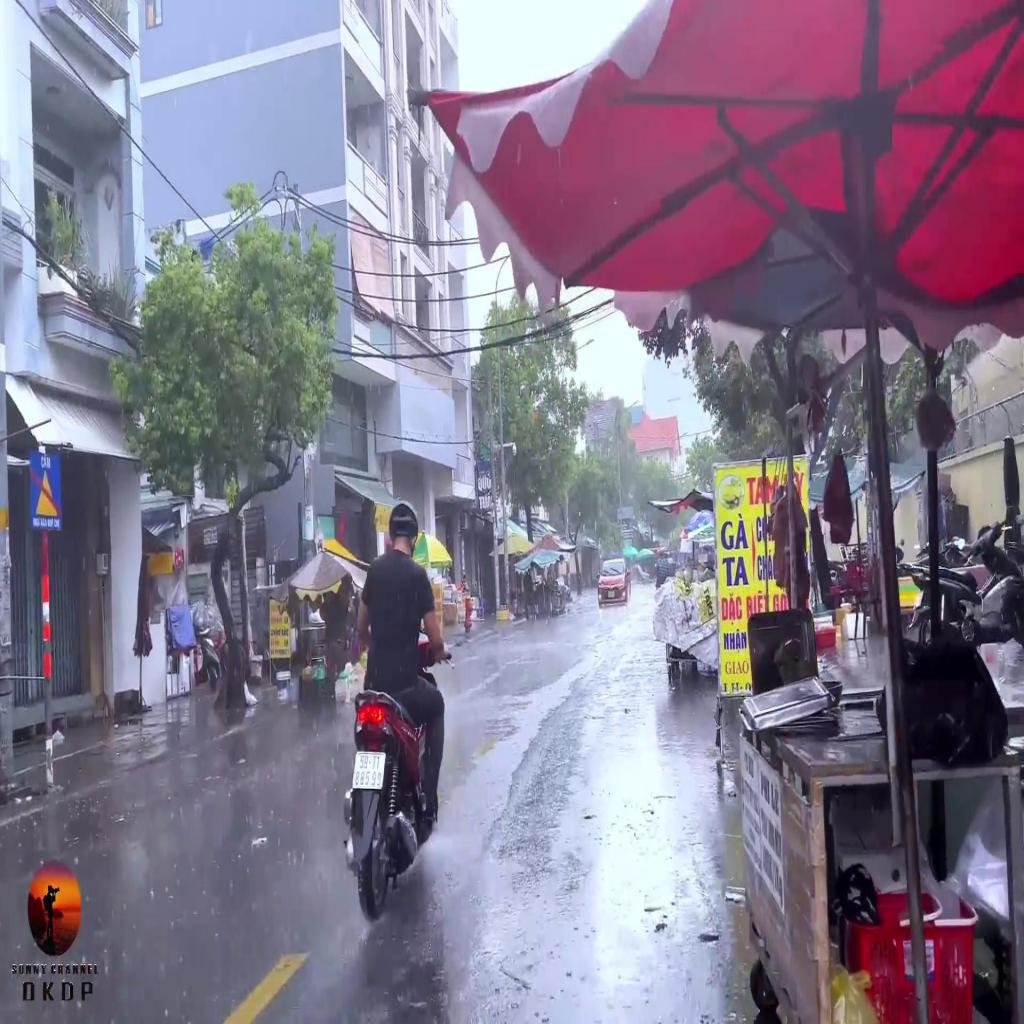khac: (29, 451, 61, 530)
